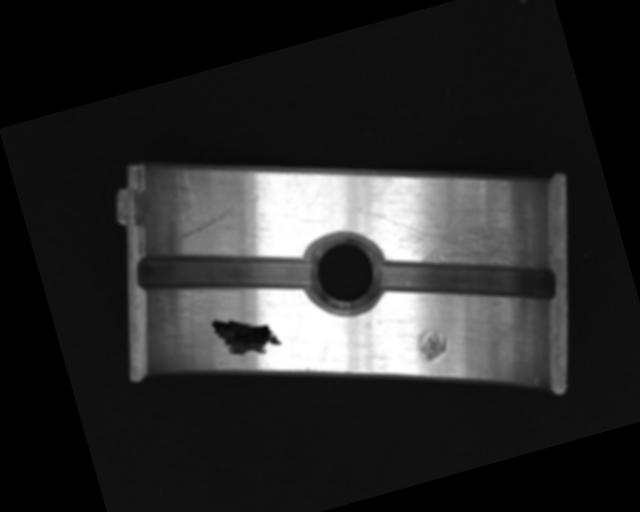blot: (209, 301, 284, 366)
bruise: (412, 322, 452, 364)
gap: (374, 218, 559, 340), (134, 213, 317, 330)
hole: (297, 226, 391, 319)
nick: (170, 192, 266, 243)
scratch: (374, 169, 553, 298)
